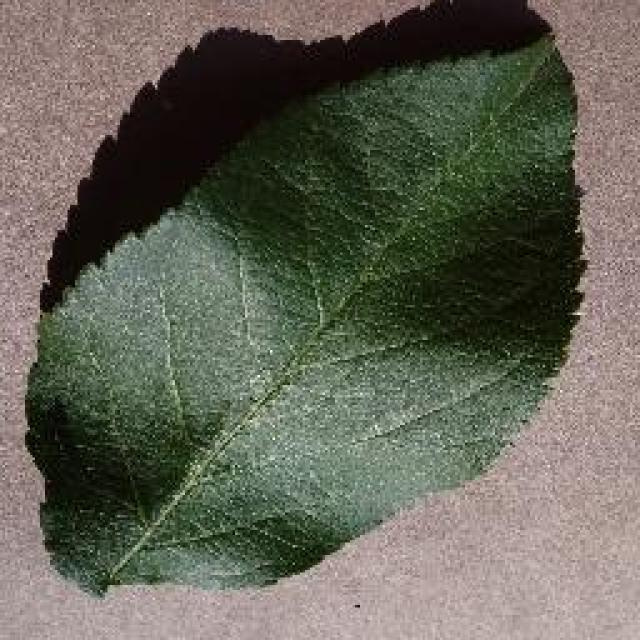apple healthy: (20, 0, 590, 595)
